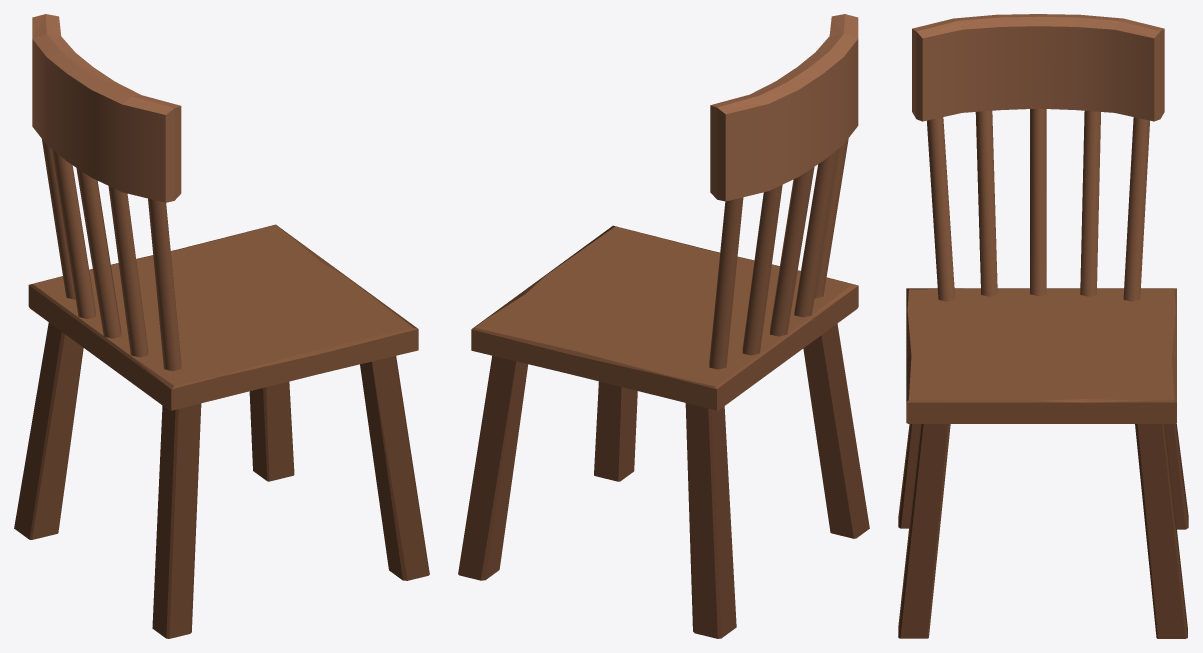
The model's file is Object_Chair.fbx.
3 renders of one model, left to right at view 1: azimuth 30°, elevation 25°; view 2: azimuth 150°, elevation 25°; view 3: azimuth 270°, elevation 25°, orthographic. The views are drawn at different scales.
Parts seen in each view (by area): view 1: Object_Chair; view 2: Object_Chair; view 3: Object_Chair.
Part boxes in pixels (left/top/right/bottom): Object_Chair: left=14, top=14, right=429, bottom=638; Object_Chair: left=458, top=14, right=869, bottom=638; Object_Chair: left=898, top=14, right=1188, bottom=638.
Size of the model in its own units: 10.59 by 18.18 by 9.69.
1 material, 1 textured.
